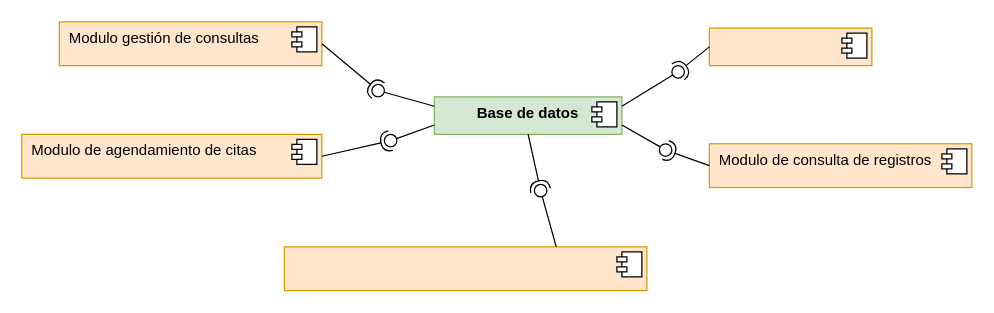
The diagram is 994 pixels wide and 313 high, and some of its shapes have lost their labels. Each missing label, with the centre of its shape:
Modulo de gestión de datos clientes/mascotas: (x=465, y=268)
Modulo de pagos: (x=790, y=46)
